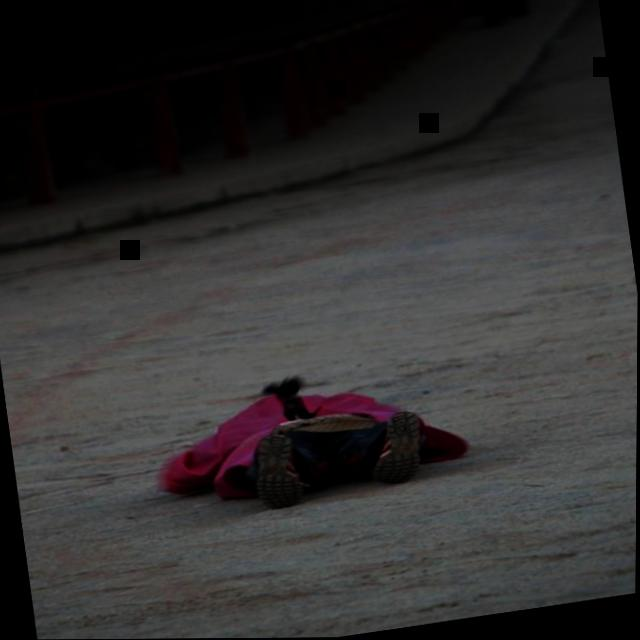Fall-Detected: (146, 343, 481, 537)
